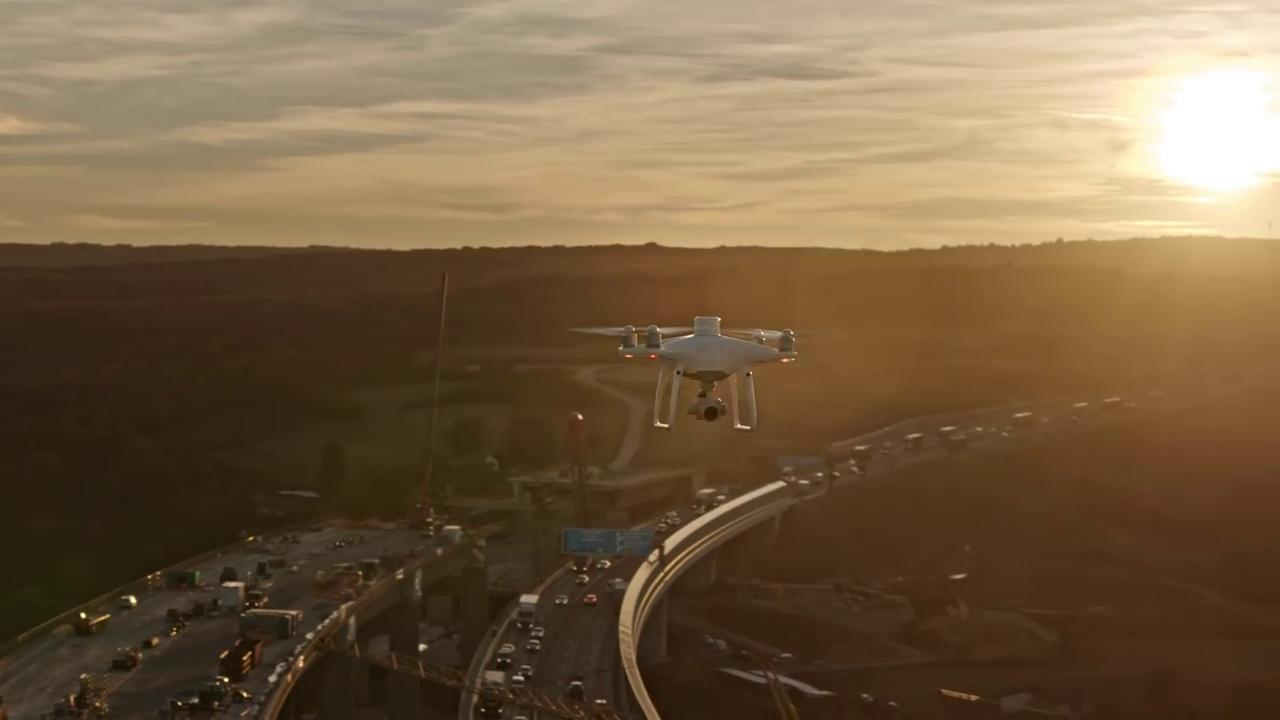drone: (564, 311, 802, 434)
